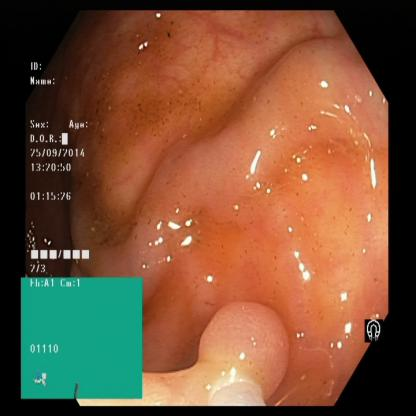Labels: (26, 51, 99, 277), (20, 279, 144, 398)
Polyps: (204, 301, 299, 389)
